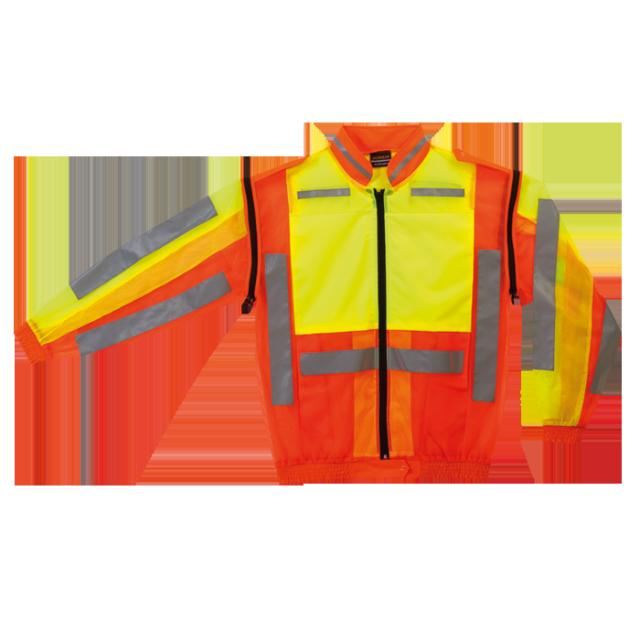Reflective-Jacket: (26, 138, 634, 485)
